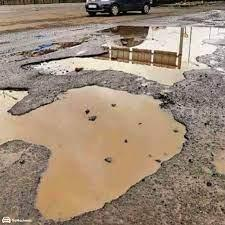pothole: (0, 88, 199, 222), (15, 26, 225, 84)
